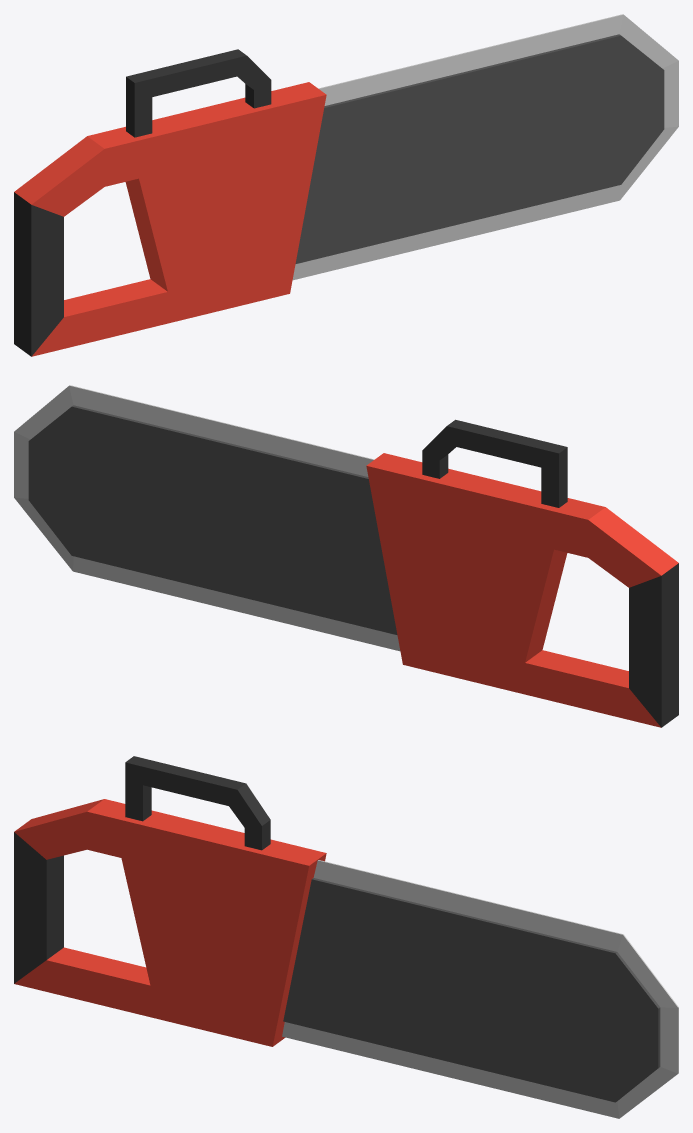
The model's file is ElectricSaw.fbx.
3 renders of one model, top to bottom at view 1: azimuth 30°, elevation 25°; view 2: azimuth 150°, elevation 25°; view 3: azimuth 330°, elevation 25°, orthographic.
Parts seen in each view (by area): view 1: ElectricSaw; view 2: ElectricSaw; view 3: ElectricSaw.
Boxes of the visible parts, bbox=[...] form: ElectricSaw: bbox=[14, 14, 678, 356]; ElectricSaw: bbox=[14, 385, 678, 727]; ElectricSaw: bbox=[14, 756, 678, 1118].
Bounding box in the file's own units: 149 × 53.3 × 6.9.
